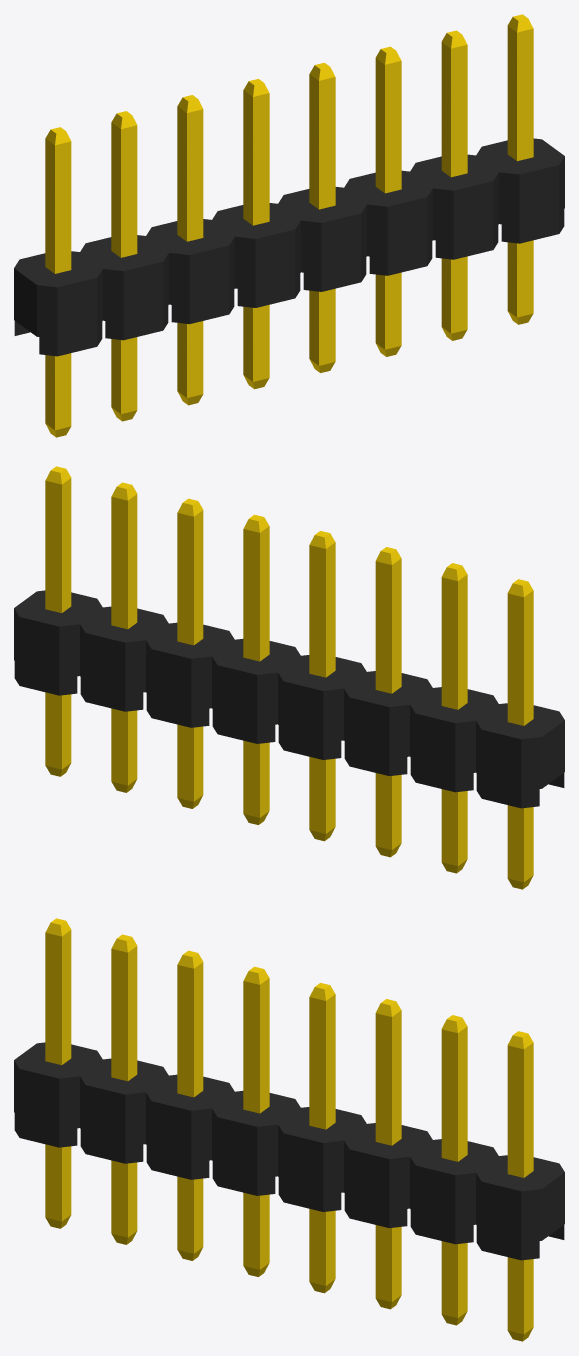
The model's file is PLS2-8.glb.
3 views of the same model, one above another, from view 1: azimuth 30°, elevation 25°; view 2: azimuth 150°, elevation 25°; view 3: azimuth 330°, elevation 25° (orthographic).
Visible parts, largest first — view 1: PLS2 (DS1025-01 CONNFLY); view 2: PLS2 (DS1025-01 CONNFLY); view 3: PLS2 (DS1025-01 CONNFLY).
Part boxes in pixels (x1,y1,x2,y2): PLS2 (DS1025-01 CONNFLY): (14,14,564,437); PLS2 (DS1025-01 CONNFLY): (14,466,564,889); PLS2 (DS1025-01 CONNFLY): (14,918,564,1341).
Size of the model in its own units: 0.016 by 0.0088 by 0.002.
